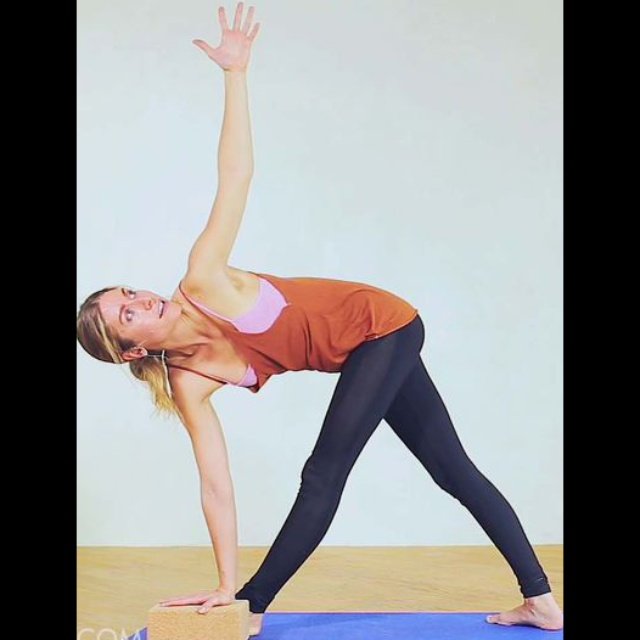Triangle_Pose: (72, 1, 563, 634)
